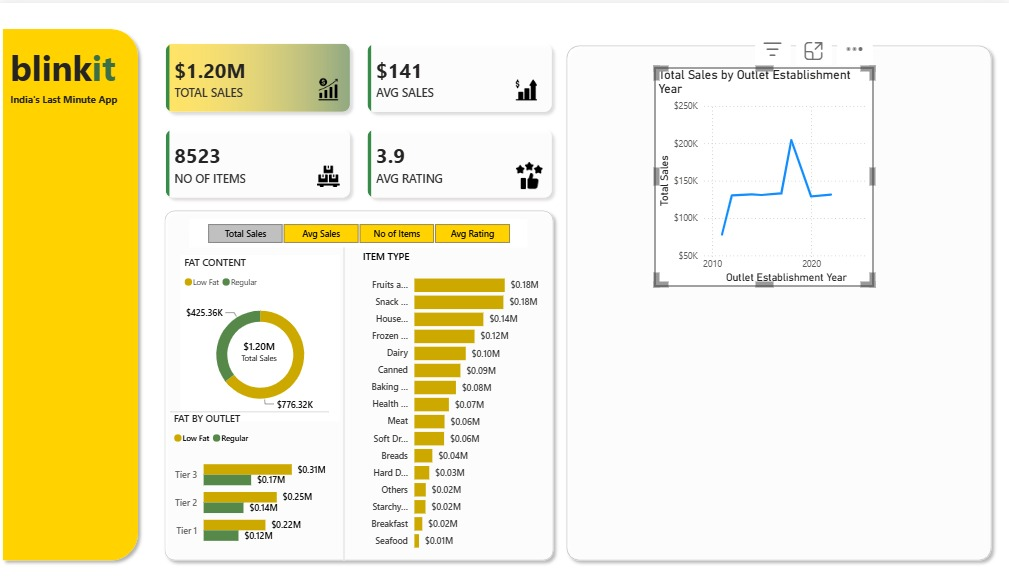

What the dashboard file says about the page in this screenshot:
{"tool":"powerbi","page":{"name":"Blinkit Dashboard","canvas":[1400,800],"ordinal":0},"visuals":[{"type":"shape","box":[0,26.9,204.6,750.3],"z":0},{"type":"textbox","box":[14.5,49.6,177.8,88.9],"z":1000},{"type":"textbox","box":[14.5,117.8,175.7,41.3],"z":2000},{"type":"cardVisual","fields":{"Data":["BlinkIT Grocery Data.Total Sales","BlinkIT Grocery Data.Avg Sales","BlinkIT Grocery Data.No of Items","BlinkIT Grocery Data.Avg Rating"]},"box":[204.6,26.9,591.1,270.8],"z":3000},{"type":"image","box":[442.3,99.2,31,39.3],"z":4000},{"type":"image","box":[715.2,99.2,31,41.3],"z":5000},{"type":"image","box":[442.3,219.1,31,39.3],"z":6000},{"type":"image","box":[715.2,219.1,39.3,37.2],"z":7000},{"type":"shape","box":[223.2,277,553.9,500.2],"z":8000},{"type":"donutChart","title":"FAT CONTENT","fields":{"Y":["BlinkIT Grocery Data.Total Sales"],"Category":["BlinkIT Grocery Data.Item Fat Content"]},"box":[254.2,347.2,219.1,229.4],"z":9000},{"type":"slicer","fields":{"Values":["Metrics.Metrics"]},"box":[266.6,297.6,465.1,39.3],"z":10000},{"type":"cardVisual","fields":{"Data":["BlinkIT Grocery Data.Total Sales"]},"box":[305.9,446.5,113.7,66.1],"z":11000},{"type":"clusteredBarChart","title":"FAT BY OUTLET","fields":{"Y":["BlinkIT Grocery Data.Total Sales"],"Category":["BlinkIT Grocery Data.Outlet Location Type"],"Series":["BlinkIT Grocery Data.Item Fat Content"]},"box":[239.8,562.2,219.1,200.5],"z":12000},{"type":"shape","box":[239.8,551.9,219.1,22.7],"z":13000},{"type":"shape","box":[473.3,336.9,12.4,432],"z":14000},{"type":"barChart","title":"ITEM TYPE","fields":{"Y":["BlinkIT Grocery Data.Total Sales"],"Category":["BlinkIT Grocery Data.Item Type"]},"box":[500.2,339,252.2,425.8],"z":15000},{"type":"shape","box":[777.2,49.6,603.5,727.6],"z":16000},{"type":"lineChart","title":"OUTET ESTABLISHMENT","fields":{"Category":["BlinkIT Grocery Data.Outlet Establishment Year"],"Y":["BlinkIT Grocery Data.Total Sales"]},"box":[795.8,78.5,566.3,239.8],"z":17000},{"type":"donutChart","title":"OUTLET SIZE","fields":{"Y":["BlinkIT Grocery Data.Total Sales"],"Category":["BlinkIT Grocery Data.Outlet Size"]},"box":[795.8,326.6,274.9,235.6],"z":18000},{"type":"shape","box":[1058.3,339,12.4,225.3],"z":19000},{"type":"funnel","title":"OUTLET LOCATION","fields":{"Category":["BlinkIT Grocery Data.Outlet Location Type"],"Y":["Sum(BlinkIT Grocery Data.Sales)"]},"box":[1070.7,332.8,291.4,219.1],"z":20000},{"type":"shape","box":[795.8,308,566.3,24.8],"z":21000},{"type":"shape","box":[789.6,562.2,566.3,24.8],"z":22000},{"type":"pivotTable","title":"OUTLET TYPE ","fields":{"Rows":["BlinkIT Grocery Data.Outlet Type"],"Values":["BlinkIT Grocery Data.Total Sales","BlinkIT Grocery Data.No of Items","BlinkIT Grocery Data.Avg Sales","BlinkIT Grocery Data.Avg Rating","Avg(BlinkIT Grocery Data.Item Visibility)"]},"box":[789.6,591.1,578.7,155],"z":23000},{"type":"slicer","fields":{"Values":["BlinkIT Grocery Data.Outlet Location Type"]},"box":[14.5,262.5,175.7,64.1],"z":23001},{"type":"slicer","fields":{"Values":["BlinkIT Grocery Data.Outlet Size"]},"box":[14.5,349.3,175.7,64.1],"z":23002},{"type":"slicer","fields":{"Values":["BlinkIT Grocery Data.Item Type"]},"box":[16.5,429.9,175.7,64.1],"z":23003},{"type":"textbox","box":[16.5,217,175.7,41.3],"z":23004}]}

Visuals, with their boxes in screenshot pixels (x1, y1, x2, y2), scaled from the page's 1400x800 canvas onto the 1009x579 screenshot:
shape: l=0, t=19, r=147, b=562
textbox: l=10, t=36, r=139, b=100
textbox: l=10, t=85, r=137, b=115
cardVisual - BlinkIT Grocery Data.Total Sales x BlinkIT Grocery Data.Avg Sales: l=147, t=19, r=573, b=215
image: l=319, t=72, r=341, b=100
image: l=515, t=72, r=538, b=102
image: l=319, t=159, r=341, b=187
image: l=515, t=159, r=544, b=185
shape: l=161, t=200, r=560, b=562
"FAT CONTENT" donutChart: l=183, t=251, r=341, b=417
slicer - Metrics.Metrics: l=192, t=215, r=527, b=244
cardVisual - BlinkIT Grocery Data.Total Sales: l=220, t=323, r=302, b=371
"FAT BY OUTLET" clusteredBarChart: l=173, t=407, r=331, b=552
shape: l=173, t=399, r=331, b=416
shape: l=341, t=244, r=350, b=556
"ITEM TYPE" barChart: l=361, t=245, r=542, b=554
shape: l=560, t=36, r=995, b=562
"OUTET ESTABLISHMENT" lineChart: l=574, t=57, r=982, b=230
"OUTLET SIZE" donutChart: l=574, t=236, r=772, b=407
shape: l=763, t=245, r=772, b=408
"OUTLET LOCATION" funnel: l=772, t=241, r=982, b=399
shape: l=574, t=223, r=982, b=241
shape: l=569, t=407, r=977, b=425
"OUTLET TYPE " pivotTable: l=569, t=428, r=986, b=540
slicer - BlinkIT Grocery Data.Outlet Location Type: l=10, t=190, r=137, b=236
slicer - BlinkIT Grocery Data.Outlet Size: l=10, t=253, r=137, b=299
slicer - BlinkIT Grocery Data.Item Type: l=12, t=311, r=139, b=358
textbox: l=12, t=157, r=139, b=187
